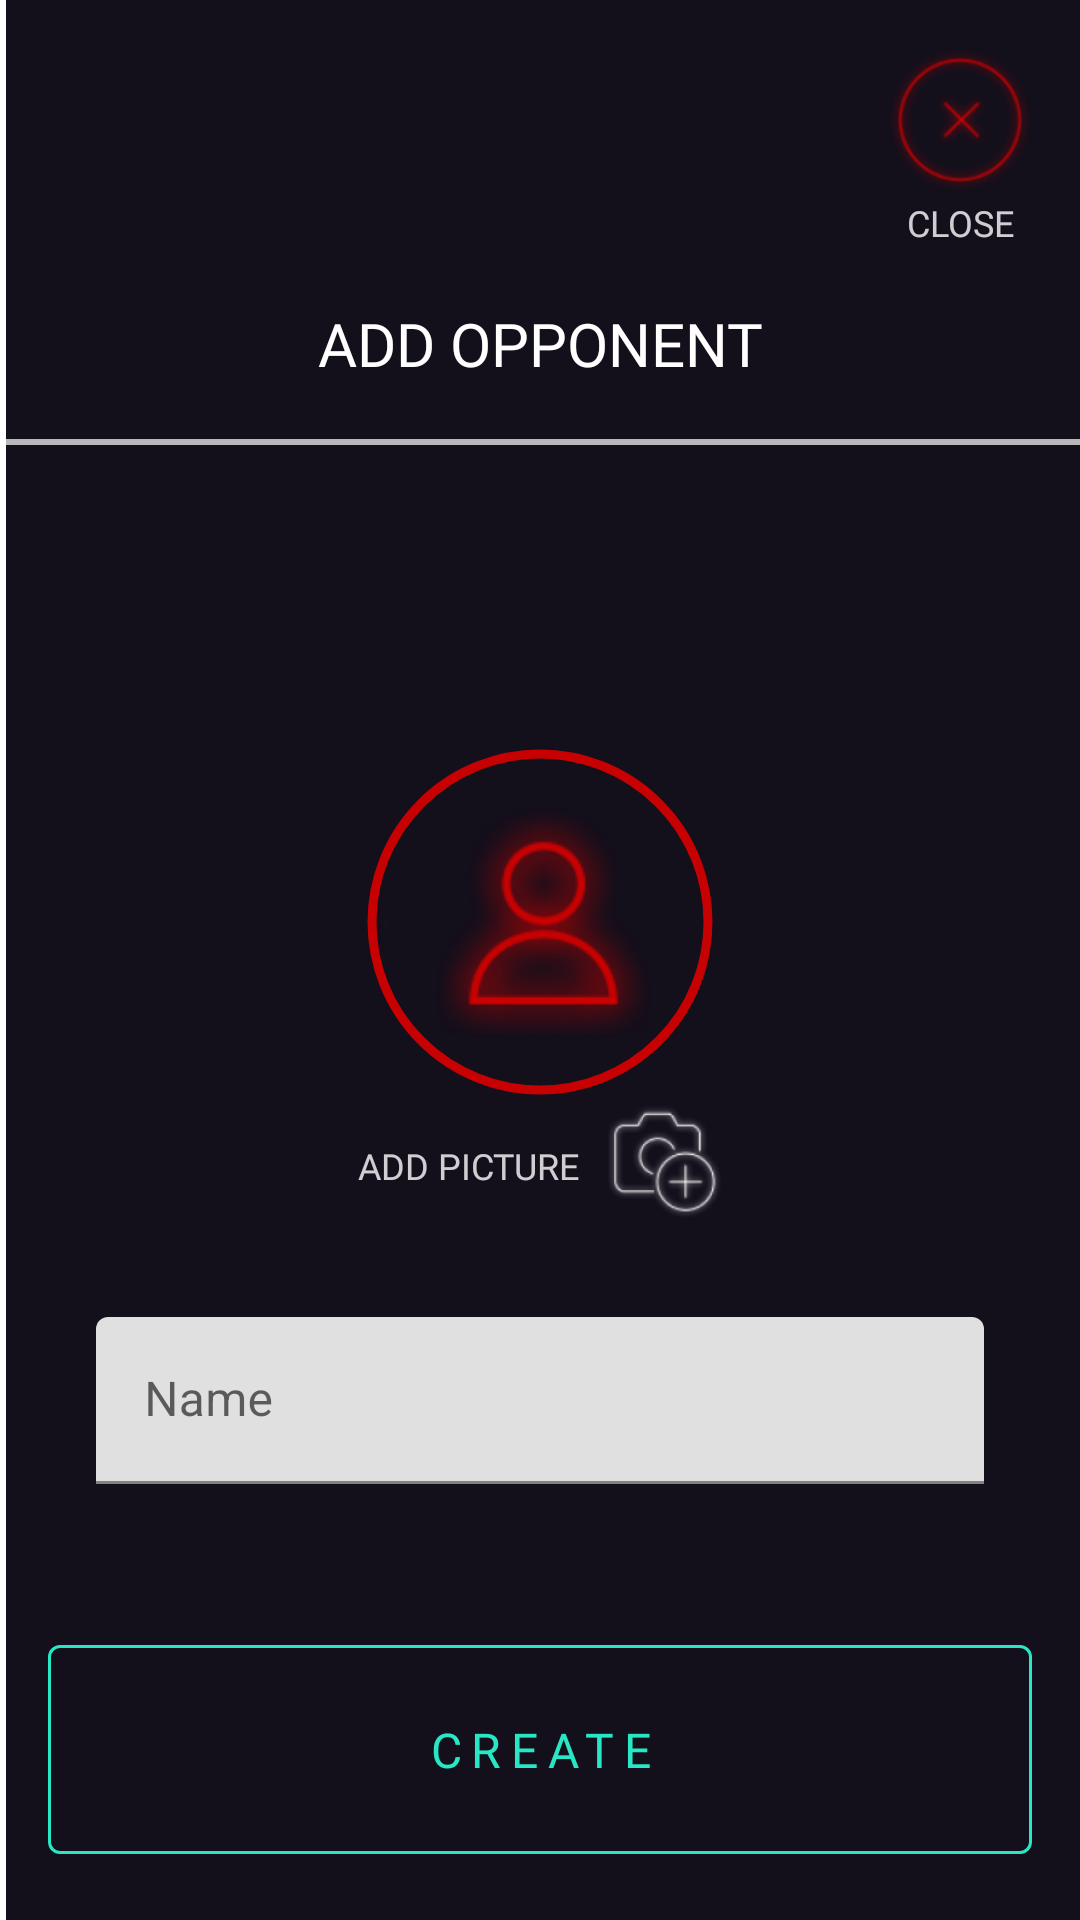

Locate icon controls on the screen. Image size 1080px×1920px, boxes as (left=x1, top=y1, right=x2, bottom=y2).
camera: (left=611, top=1110, right=717, bottom=1213)
